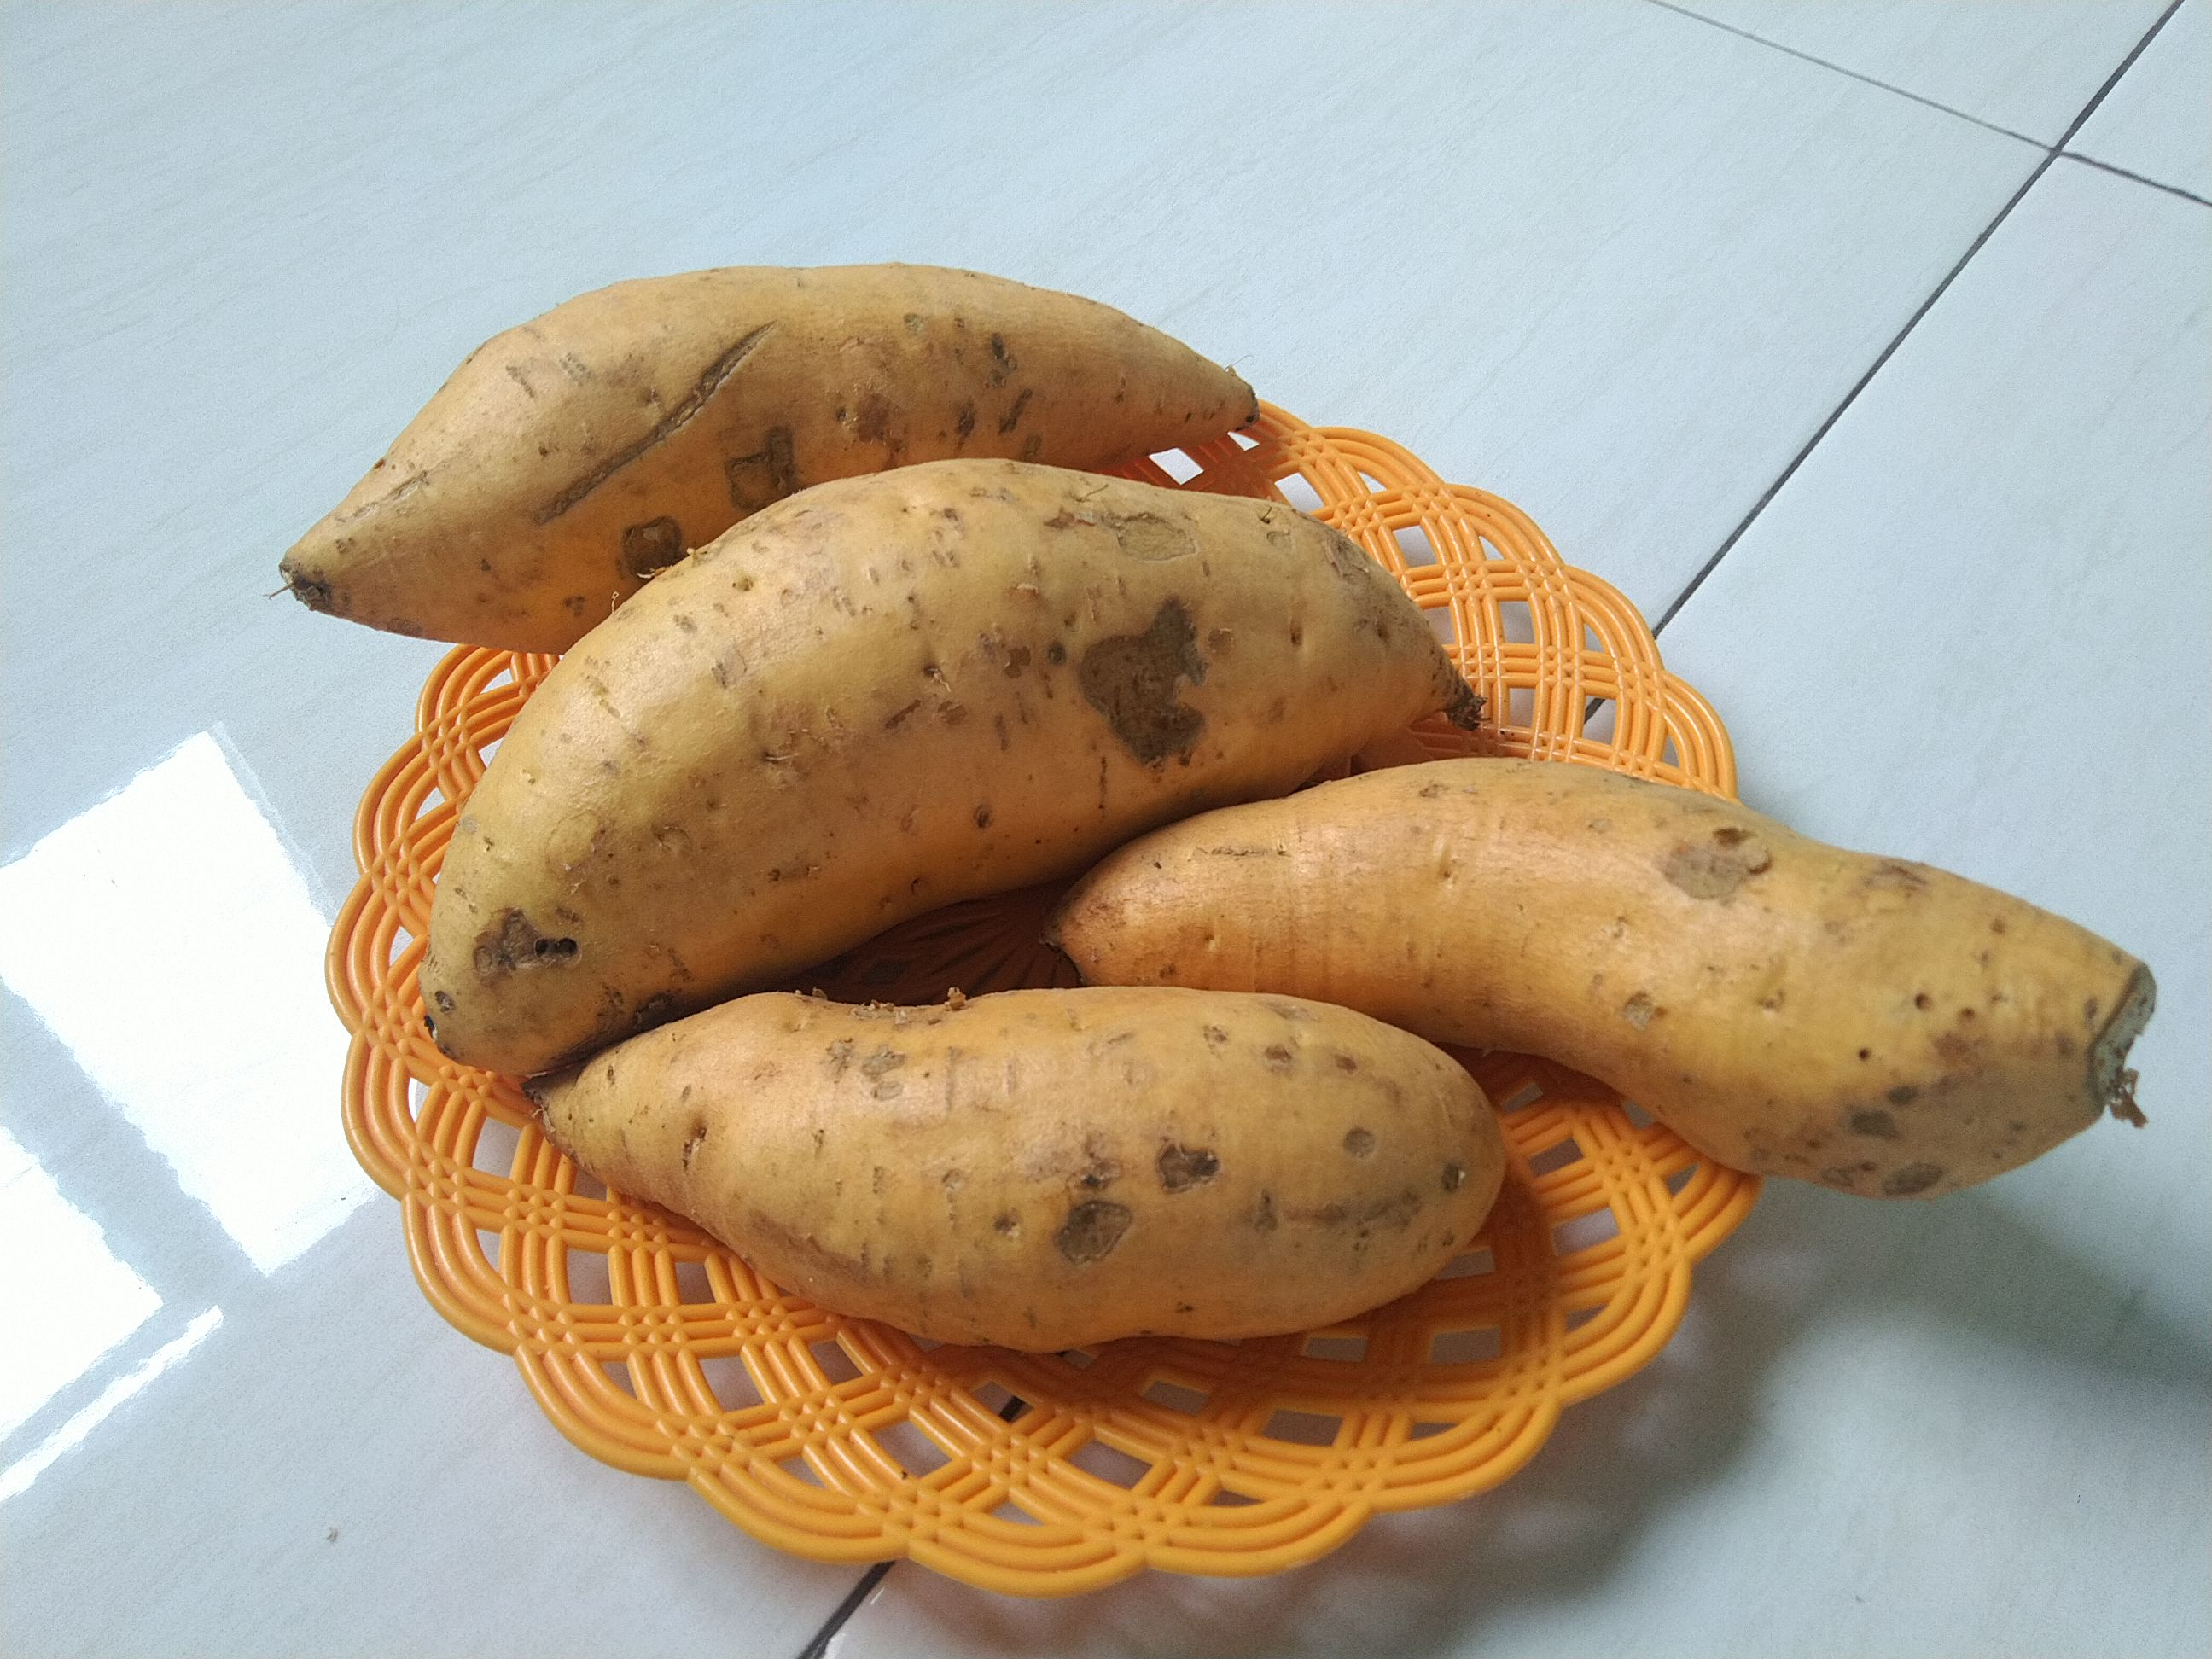ubi cilembu: (421, 523, 1484, 1079), (1059, 742, 2155, 1211), (244, 251, 1303, 650), (535, 981, 1524, 1356)
